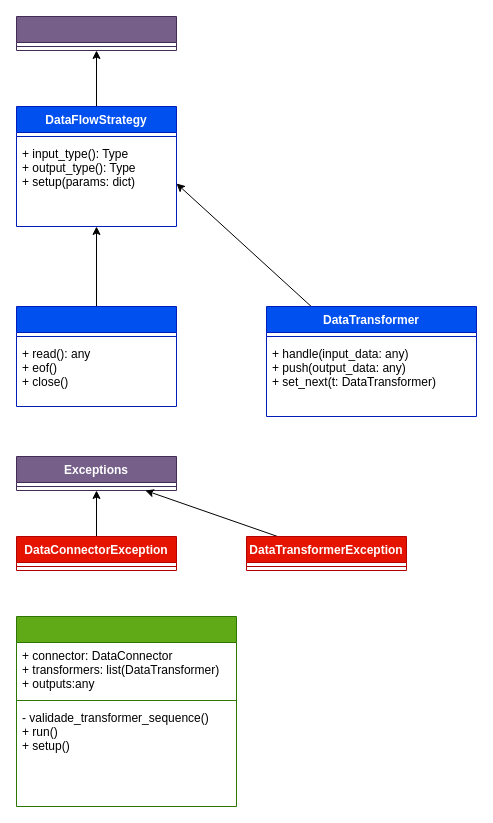
The diagram is 493 pixels wide and 823 high, and some of its shapes have lost their labels. Each missing label, with the box of its shape:
ABC: (16, 16, 176, 50)
DataConnector (abstract): (16, 306, 176, 406)
TinyDataFlow: (16, 616, 236, 806)
